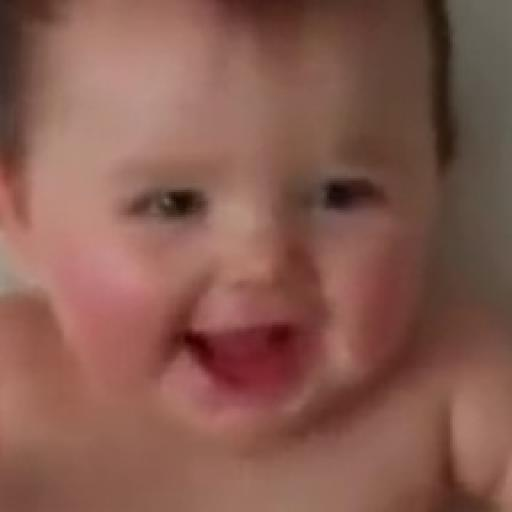Autism: (7, 0, 459, 462)
